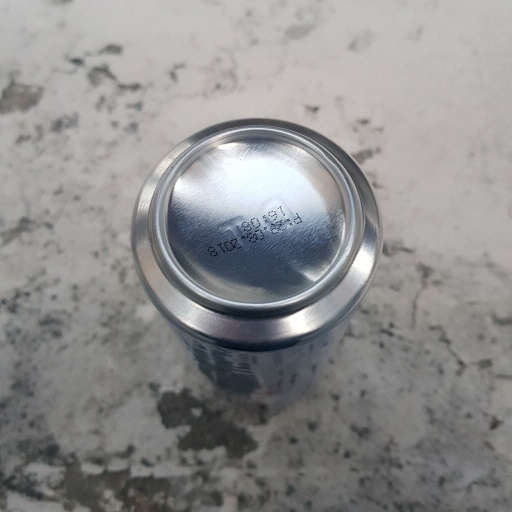Metal_0: (125, 115, 383, 406)
